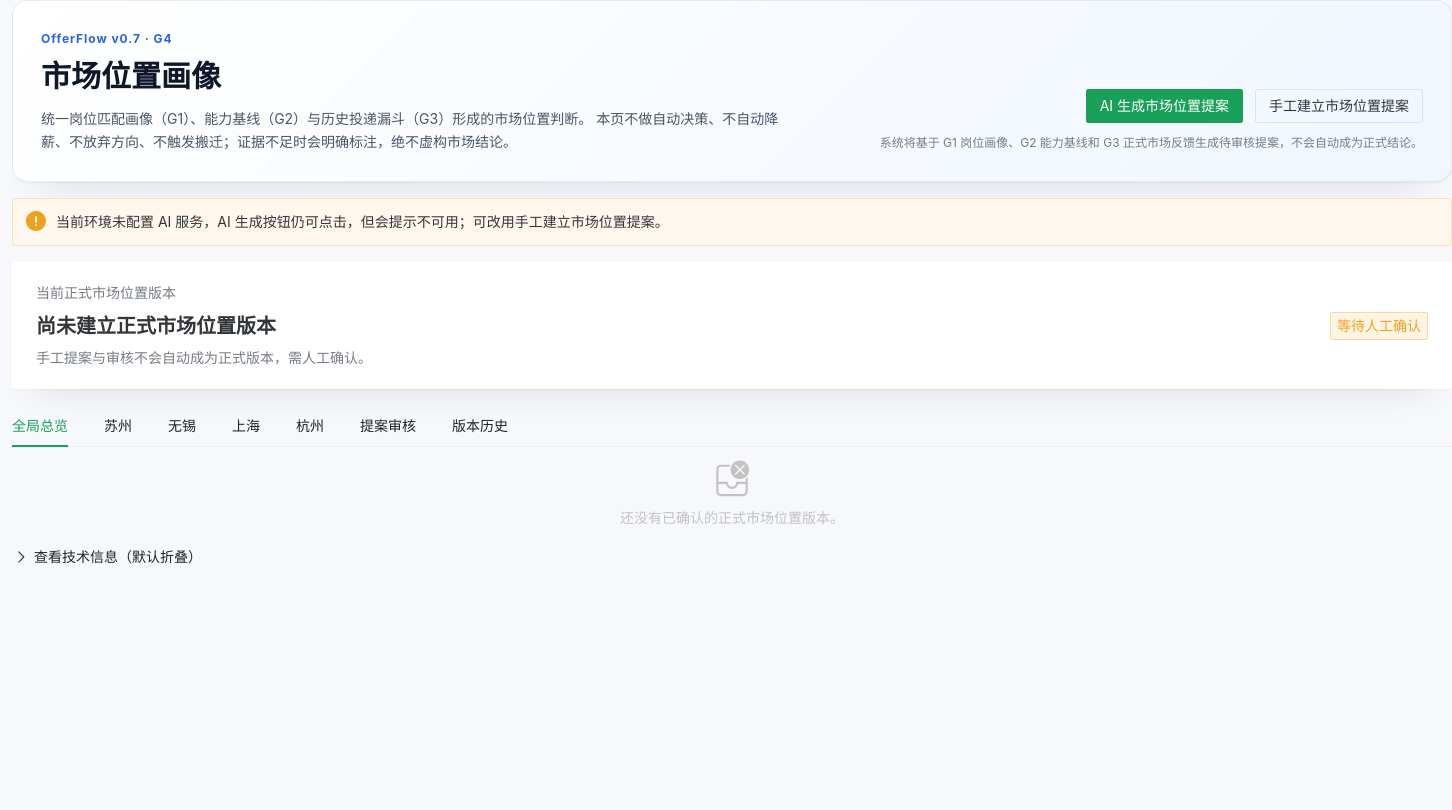
Test case: MarketPositionPage · AI 生成市场位置提案 › AI 服务未配置：返回 503 时展示中文错误提示，不暴露技术栈细节
What coordinates should you click on to do the following:
click the button with test id "mp-ai-generate"
I would click on:
 (1164, 106)
Its box is [1086,89,1243,123].
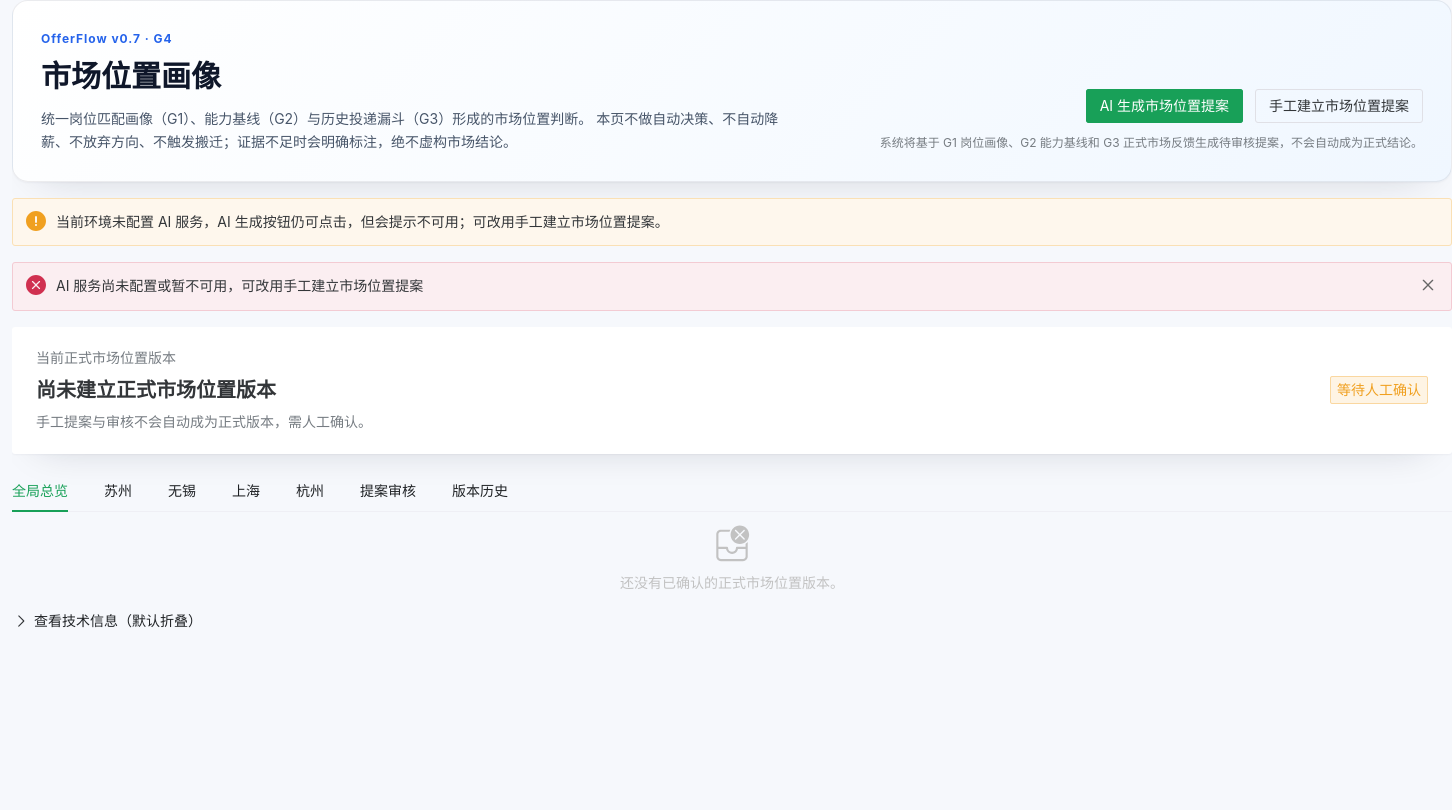
Expected: the message with test id "mp-error" shows "AI 服务尚未配置", [56,277,423,294]
